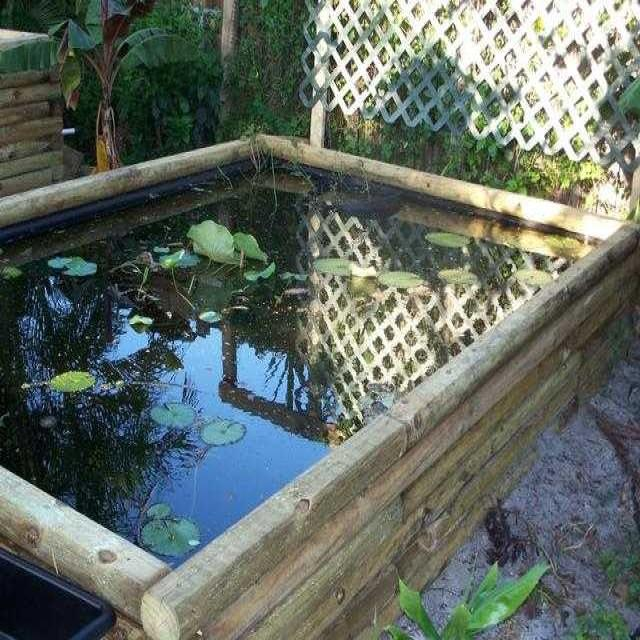Ponds: (1, 130, 640, 605)
